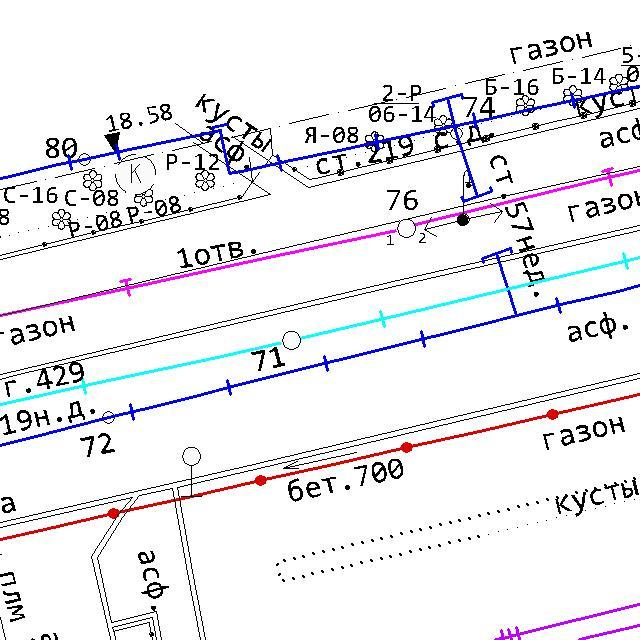asphalt: (137, 550, 171, 614), (567, 311, 629, 344)
bushes: (114, 152, 158, 195), (514, 93, 536, 117), (194, 169, 216, 192), (51, 207, 72, 231), (562, 84, 583, 108), (608, 72, 629, 96), (82, 170, 103, 192), (365, 130, 385, 152), (134, 188, 154, 207)
sing: (180, 445, 203, 499)
well: (281, 329, 303, 352), (396, 218, 417, 239), (76, 151, 93, 168), (101, 410, 116, 426), (450, 125, 464, 142)
